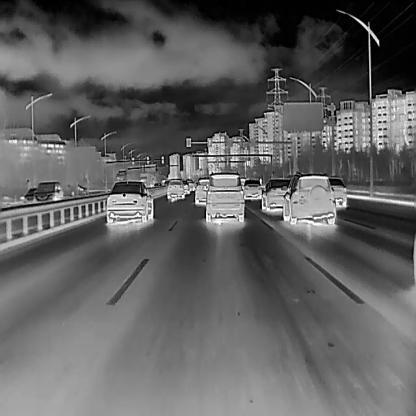car: (282, 173, 336, 228), (104, 179, 155, 226), (201, 171, 244, 221), (260, 176, 292, 213), (32, 180, 63, 206), (327, 176, 346, 207), (193, 177, 213, 205), (114, 167, 142, 186), (241, 176, 263, 199), (165, 178, 185, 198), (22, 186, 37, 202), (140, 172, 155, 186), (185, 177, 194, 189)
